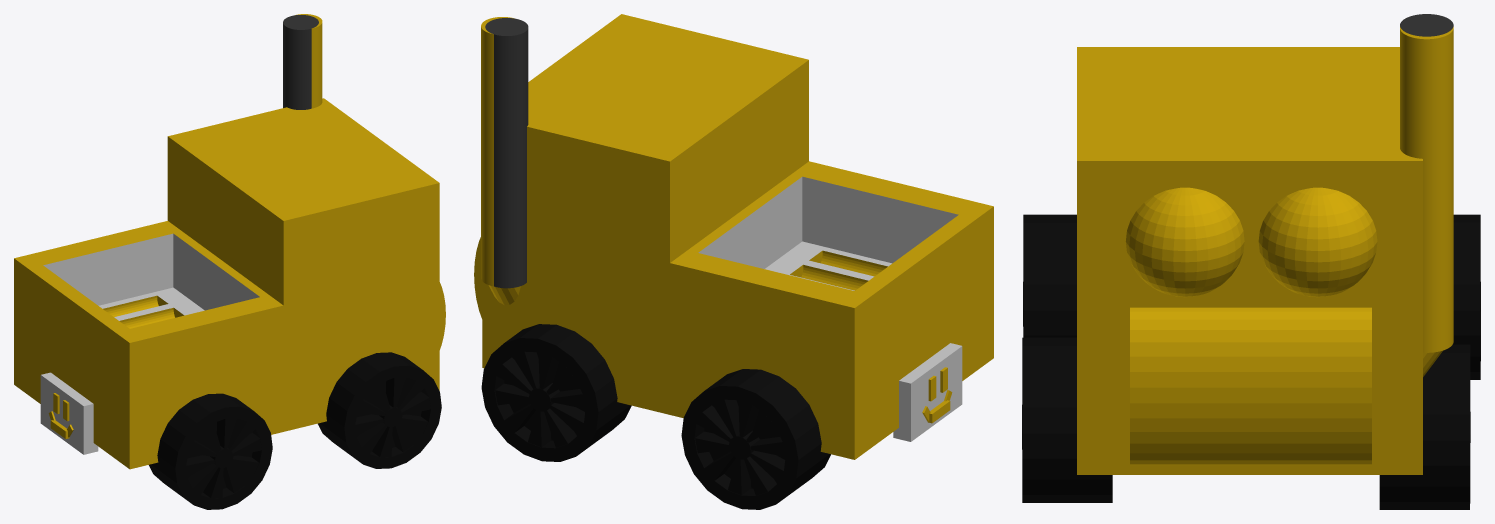
The model's file is car.obj.
3 renders of one model, left to right at view 1: azimuth 30°, elevation 25°; view 2: azimuth 150°, elevation 25°; view 3: azimuth 270°, elevation 25°, orthographic. The views are drawn at different scales.
Parts seen in each view (by area): view 1: Cube, Cube.003, Cylinder.003, Cylinder.002, Cylinder.014; view 2: Cube, Cube.003, Cylinder.001, Cylinder, Cylinder.014; view 3: Cube, Cube.003, Cylinder.003, Cylinder, Cylinder.002, Cylinder.001, Cylinder.014, Cylinder.013.
Part boxes in pixels (x1,y1,x2,y2): Cube: (14,14,445,469); Cube.003: (40,101,435,454); Cylinder.003: (318,352,441,468); Cylinder.002: (149,393,272,509); Cylinder.014: (283,15,318,109); Cube: (474,14,993,459); Cube.003: (486,15,962,441); Cylinder.001: (681,369,830,509); Cylinder: (481,324,631,461); Cylinder.014: (485,18,528,288); Cube: (1077,27,1453,474); Cube.003: (1077,47,1416,158); Cylinder.003: (1022,337,1112,502); Cylinder: (1379,344,1470,509); Cylinder.002: (1023,214,1076,337); Cylinder.001: (1453,214,1480,379); Cylinder.014: (1400,14,1453,36); Cylinder.013: (1407,17,1445,33).
Size of the model in its own units: 3.51 by 3.24 by 2.65.
